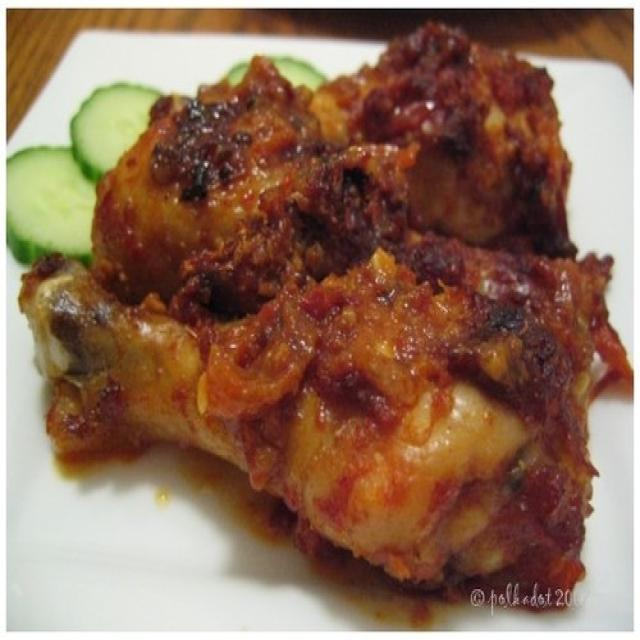鸡肉料理 含炸鸡: (47, 31, 626, 614)
